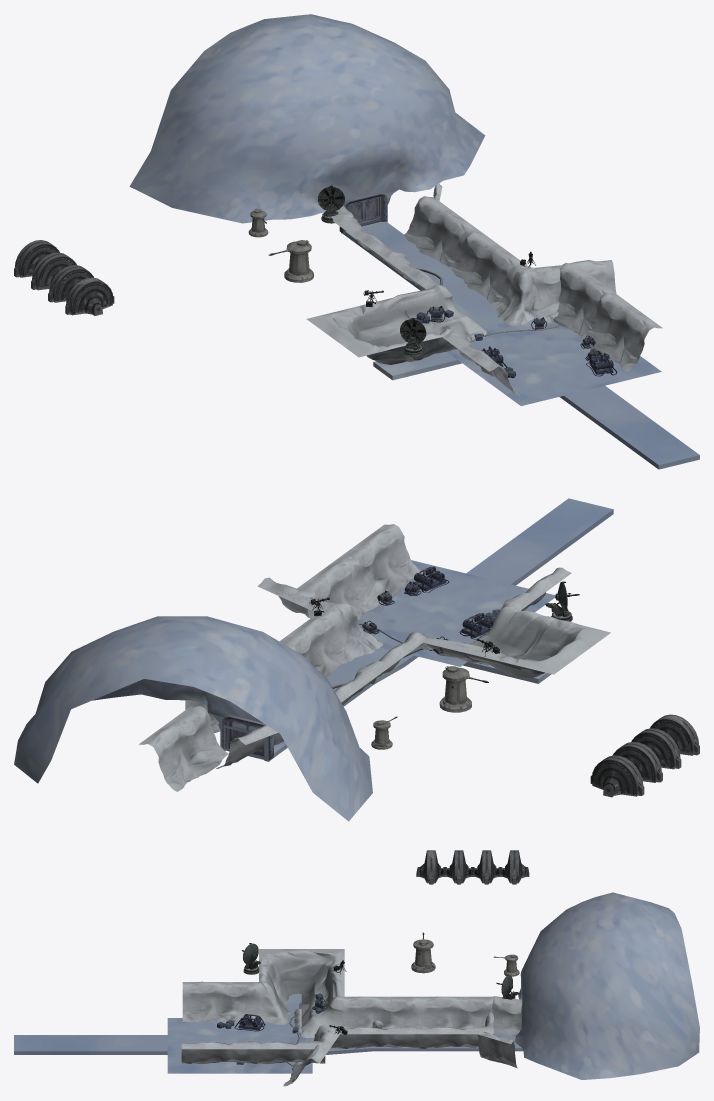
Rendered from env_hoth_combattrench_pre.glb.
The picture shows the model from 3 angles, top to bottom: view 1: azimuth 30°, elevation 25°; view 2: azimuth 150°, elevation 25°; view 3: azimuth 270°, elevation 25°; orthographic projection. The views are drawn at different scales.
Parts seen in each view (by area): view 1: combattrench_01_doorentry_mesh, combattrench_01_ground_mesh, combattrench_01_battleground02_mesh, trenchwall_03_mesh, trenchwall_01_mesh (×2), hoth_shield_generator_mesh, trenchwall_01_mesh (3) (×2), trenchwall_01_mesh (2) (×2), trenchwall_01_mesh (6), trenchwall_01_mesh (8), trenchwall_02_mesh (1), hoth_turret_02_dtl_mesh (×2) (+2 smaller); view 2: combattrench_01_doorentry_mesh, combattrench_01_battleground02_mesh, combattrench_01_ground_mesh, trenchwall_03_mesh, trenchwall_01_mesh (4) (×2), hoth_shield_generator_mesh, trenchwall_01_mesh (×2), trenchwall_01_mesh (2) (×2), trenchwall_01_mesh (6), hoth_turret_01_mesh (×2), trenchwall_02_mesh (1), hoth_generator_01_dtl_mesh (×2) (+3 smaller); view 3: combattrench_01_doorentry_mesh, trenchwall_03_mesh, trenchwall_01_mesh (×2), combattrench_01_battleground02_mesh, combattrench_01_ground_mesh, trenchwall_01_mesh (2) (×2), trenchwall_01_mesh (3) (×2), hoth_shield_generator_mesh, trenchwall_01_mesh (6), trenchwall_01_mesh (4), trenchwall_01_mesh (7), trenchwall_01_mesh (8) (+3 smaller).
Part boxes in pixels (x1,y1,x2,y2): combattrench_01_doorentry_mesh: [129, 14, 485, 233]; combattrench_01_ground_mesh: [343, 221, 699, 469]; combattrench_01_battleground02_mesh: [447, 321, 661, 405]; trenchwall_03_mesh: [306, 284, 486, 364]; trenchwall_01_mesh (×2): [442, 292, 662, 396]; hoth_shield_generator_mesh: [14, 240, 114, 315]; trenchwall_01_mesh (3) (×2): [333, 196, 480, 278]; trenchwall_01_mesh (2) (×2): [381, 231, 528, 308]; trenchwall_01_mesh (6): [553, 263, 616, 339]; trenchwall_01_mesh (8): [518, 260, 616, 316]; trenchwall_02_mesh (1): [496, 266, 539, 325]; hoth_turret_02_dtl_mesh (×2): [318, 185, 426, 355]; combattrench_01_doorentry_mesh: [14, 616, 372, 821]; combattrench_01_battleground02_mesh: [358, 560, 555, 666]; combattrench_01_ground_mesh: [226, 498, 613, 760]; trenchwall_03_mesh: [399, 605, 610, 678]; trenchwall_01_mesh (4) (×2): [139, 706, 283, 791]; hoth_shield_generator_mesh: [590, 714, 699, 797]; trenchwall_01_mesh (×2): [334, 524, 571, 610]; trenchwall_01_mesh (2) (×2): [279, 610, 422, 703]; trenchwall_01_mesh (6): [288, 556, 377, 620]; hoth_turret_01_mesh (×2): [371, 666, 488, 749]; trenchwall_02_mesh (1): [321, 603, 382, 657]; hoth_generator_01_dtl_mesh (×2): [412, 566, 493, 639]; combattrench_01_doorentry_mesh: [514, 892, 699, 1079]; trenchwall_03_mesh: [259, 949, 344, 1037]; trenchwall_01_mesh (×2): [181, 981, 260, 1064]; combattrench_01_battleground02_mesh: [167, 1018, 312, 1073]; combattrench_01_ground_mesh: [14, 993, 523, 1054]; trenchwall_01_mesh (2) (×2): [338, 996, 418, 1048]; trenchwall_01_mesh (3) (×2): [415, 996, 493, 1048]; hoth_shield_generator_mesh: [416, 850, 529, 884]; trenchwall_01_mesh (6): [247, 1041, 325, 1064]; trenchwall_01_mesh (4): [491, 996, 521, 1036]; trenchwall_01_mesh (7): [478, 1032, 517, 1068]; trenchwall_01_mesh (8): [283, 1027, 339, 1086].
Size of what is drawn, in the model's own units: 61.65 by 19.45 by 88.18.
Materials: 15 (15 with a texture image).
